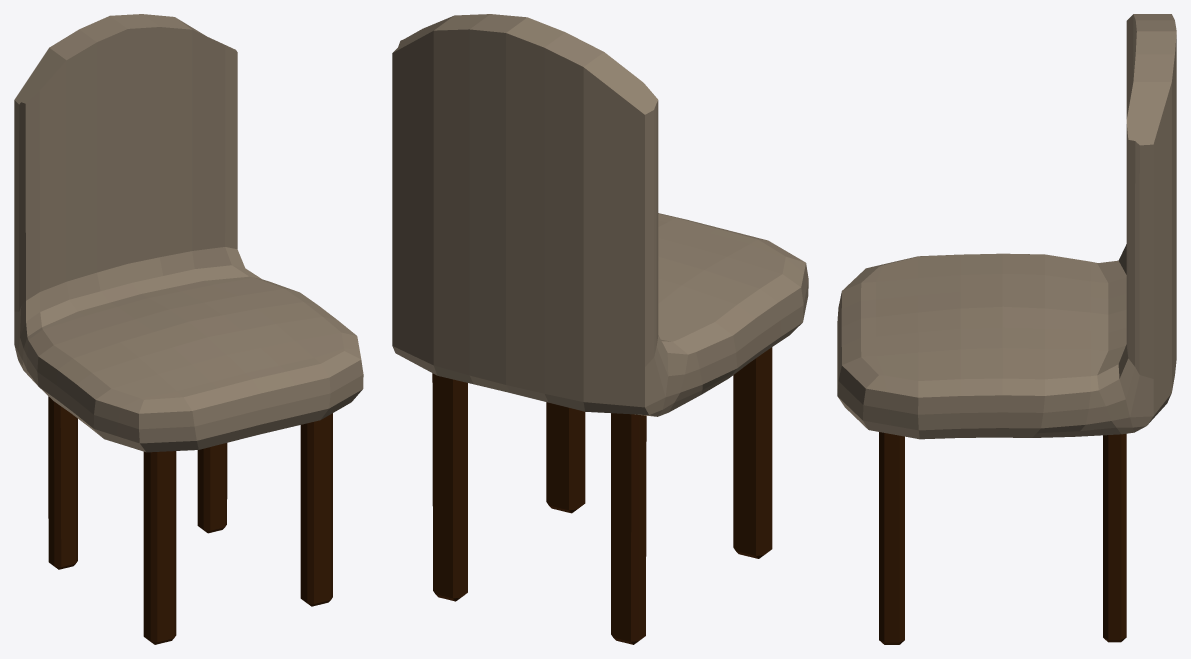
The model's file is chairBeige.fbx.
3 views of the same model, side by side, from view 1: azimuth 30°, elevation 25°; view 2: azimuth 150°, elevation 25°; view 3: azimuth 270°, elevation 25° (orthographic). The views are drawn at different scales.
Visible parts, largest first — view 1: chair; view 2: chair; view 3: chair.
Part boxes in pixels (x1=…): chair: x1=14, y1=14, x2=363, y2=644; chair: x1=392, y1=14, x2=808, y2=644; chair: x1=837, y1=14, x2=1176, y2=644.
Bounding box in the file's own units: 70 × 129 × 70.
